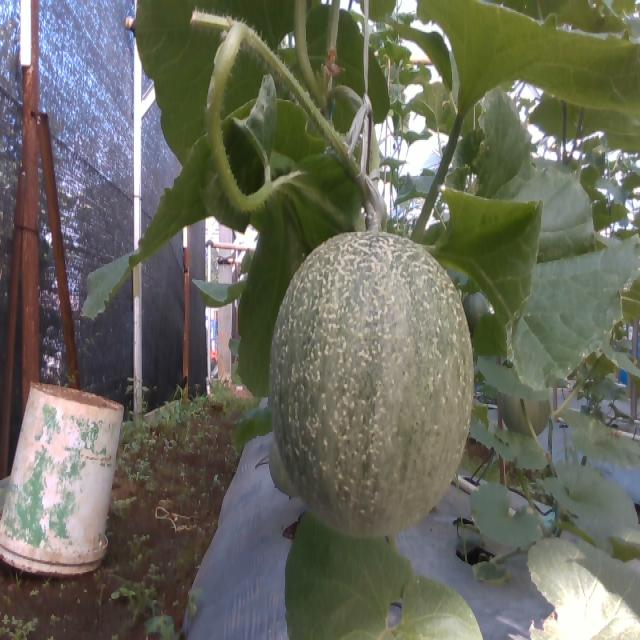melon: (271, 232, 475, 538)
